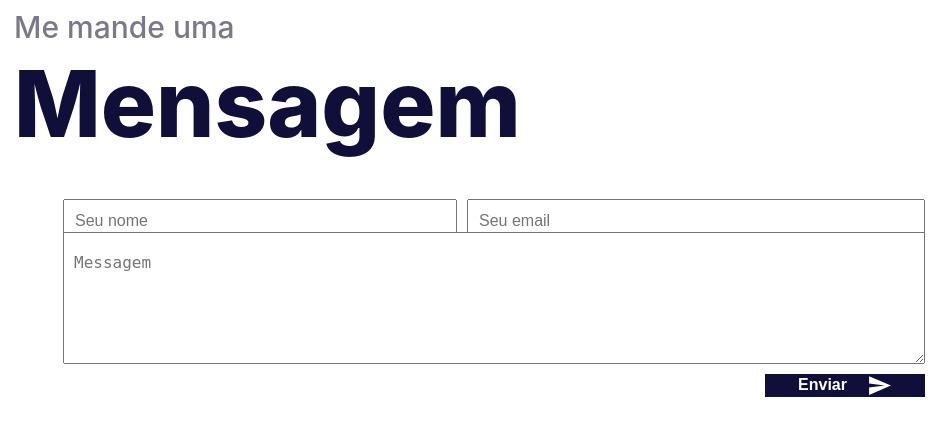
Test: Test Contacts › Should render Contact with success, typing name, email and message and click submit
Type "teste" into the field with test id "name".
click(260, 221); type("teste")  # box x1=63 y1=199 x2=457 y2=243
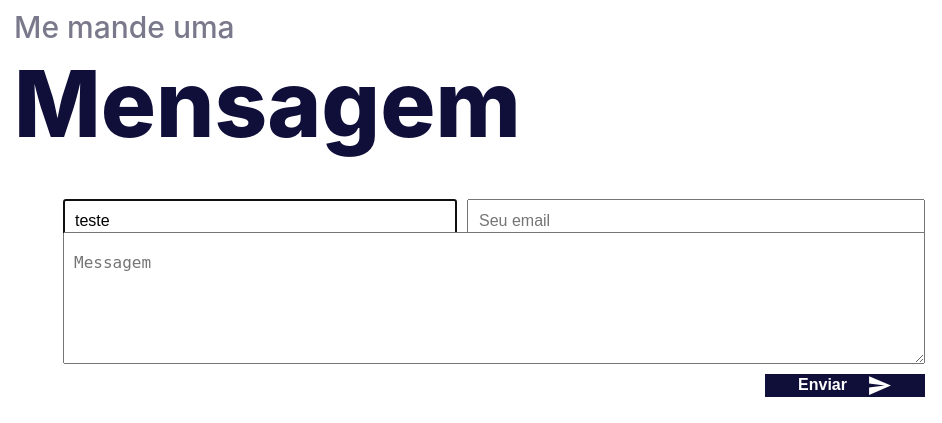
Type "teste@teste.com" into the field with test id "email".
click(696, 221); type("teste@teste.com")  # box x1=467 y1=199 x2=925 y2=243
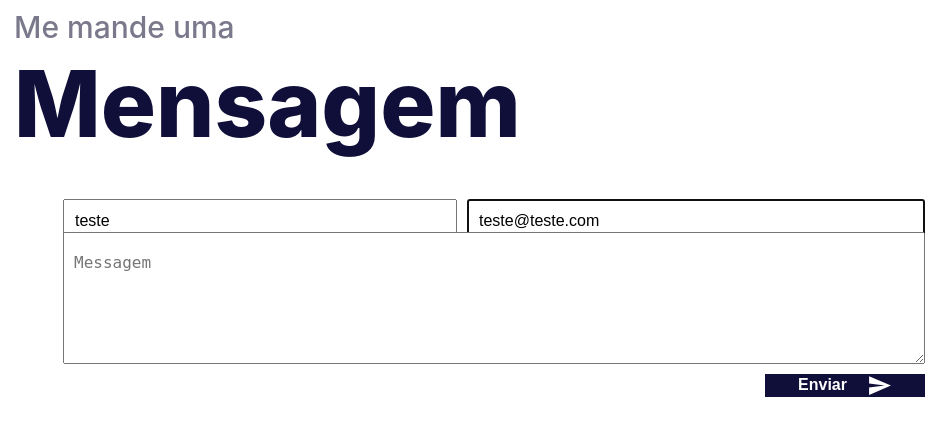
Type "teste teste teste" into the text box with test id "message".
click(494, 298); type("teste teste teste")  # box x1=63 y1=232 x2=925 y2=364
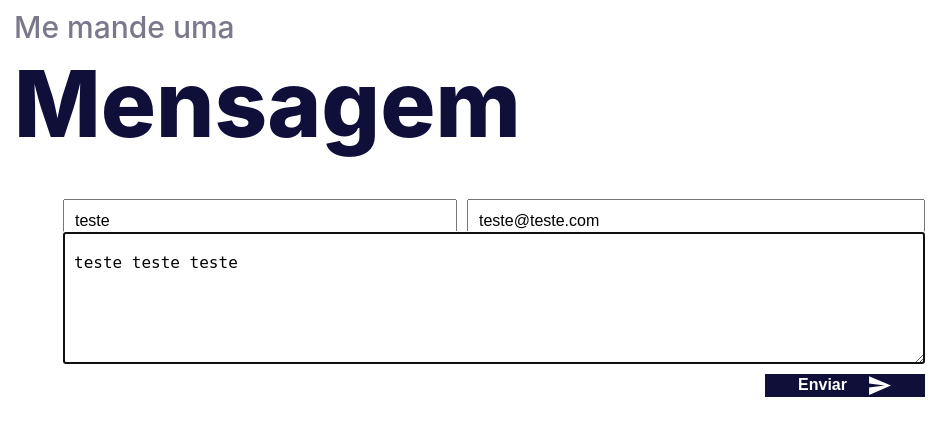
Click the button "Enviar".
click(845, 385)  # box x1=765 y1=374 x2=925 y2=397
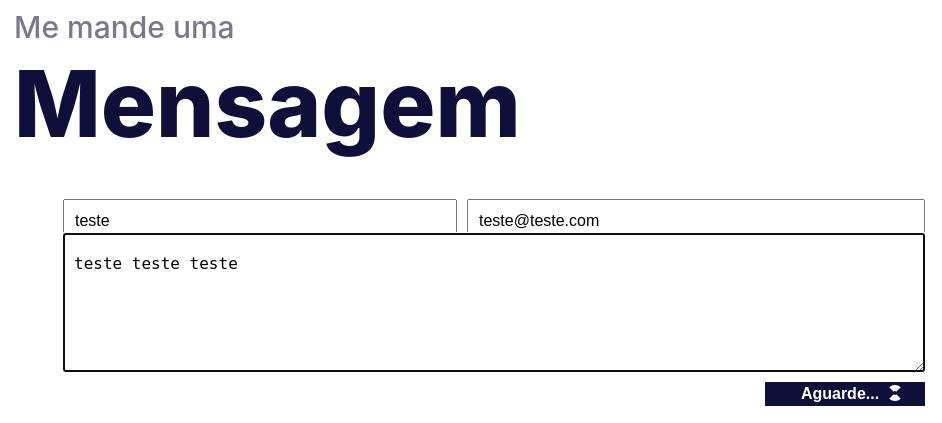
Check: the button "Aguarde..." is shown, box x1=765 y1=382 x2=925 y2=406
